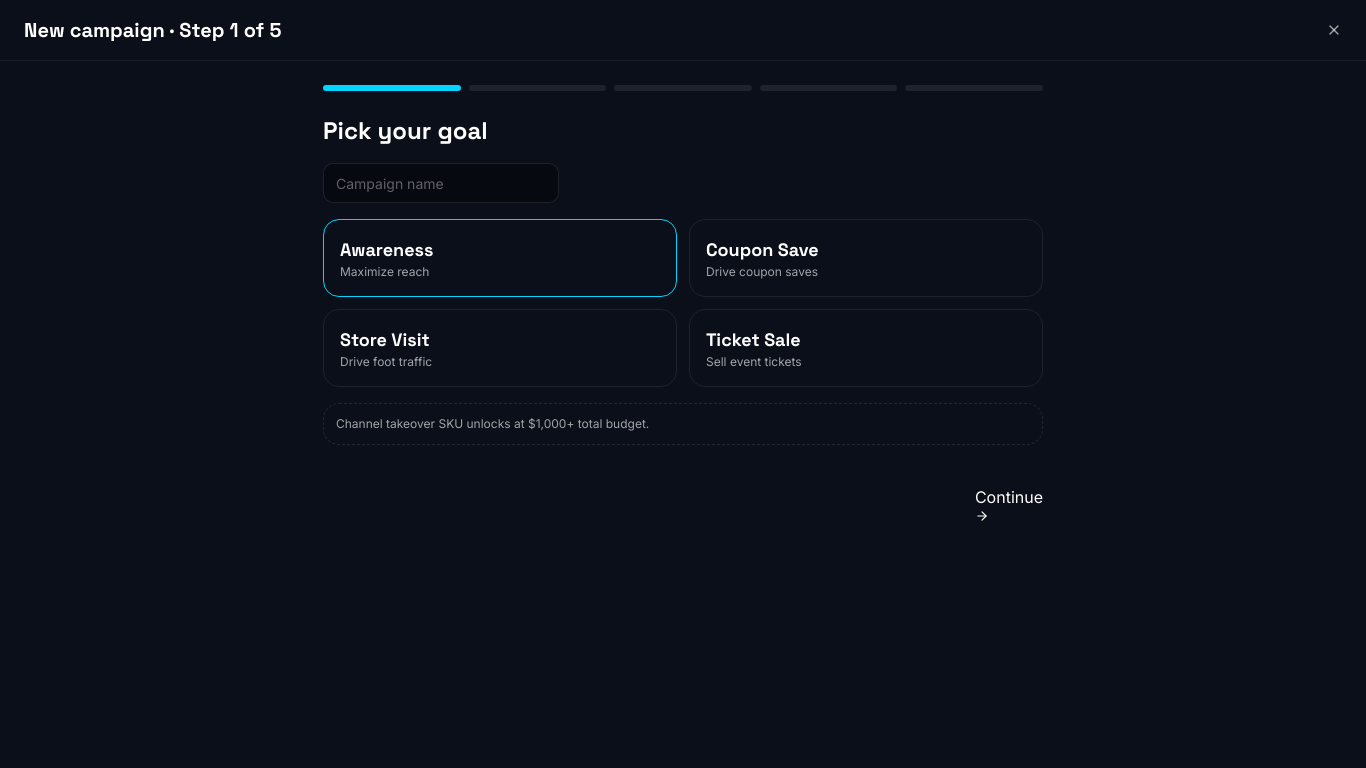
Scenario: 1) Campaign wizard renders 5 steps
This screenshot has width=1366, height=768.
expect the element with test id "wizard-step-1" is shown: met, box left=323, top=115, right=1043, bottom=445
Click the button with test id "wizard-next". click: (1009,504)
box: left=975, top=485, right=1043, bottom=523
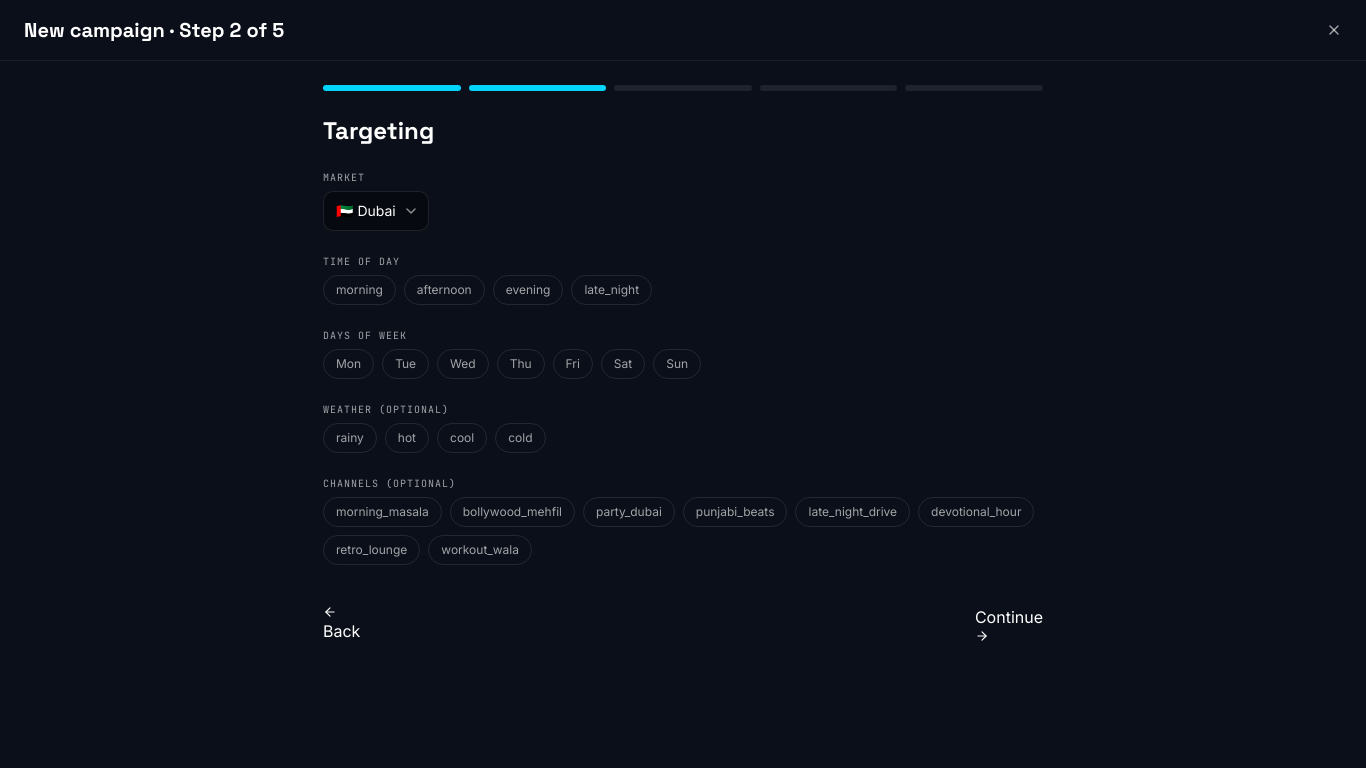
Click the button with test id "wizard-next". click: (1009,624)
box: left=975, top=605, right=1043, bottom=643
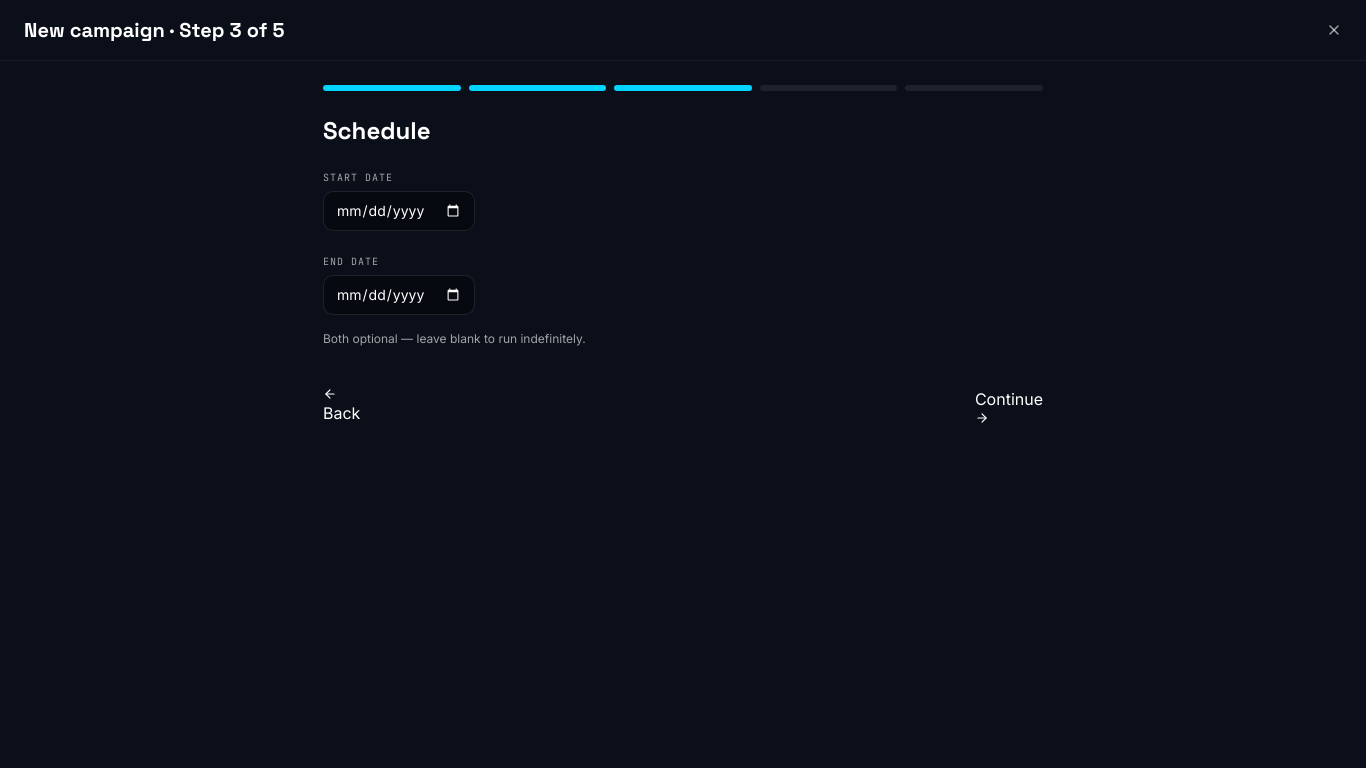
Click the button with test id "wizard-next". click: (1009,406)
box: left=975, top=387, right=1043, bottom=425
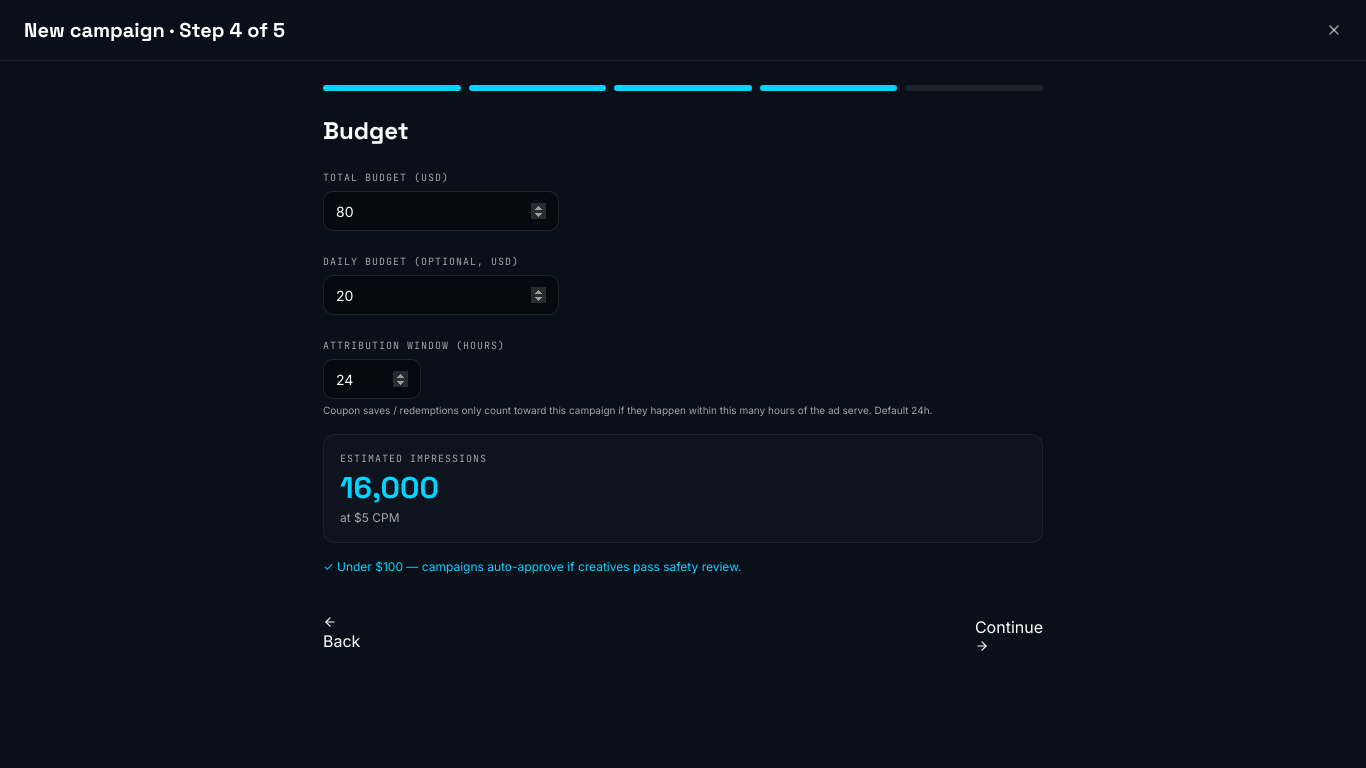
Click the button with test id "wizard-next". click: (1009,634)
box: left=975, top=615, right=1043, bottom=653
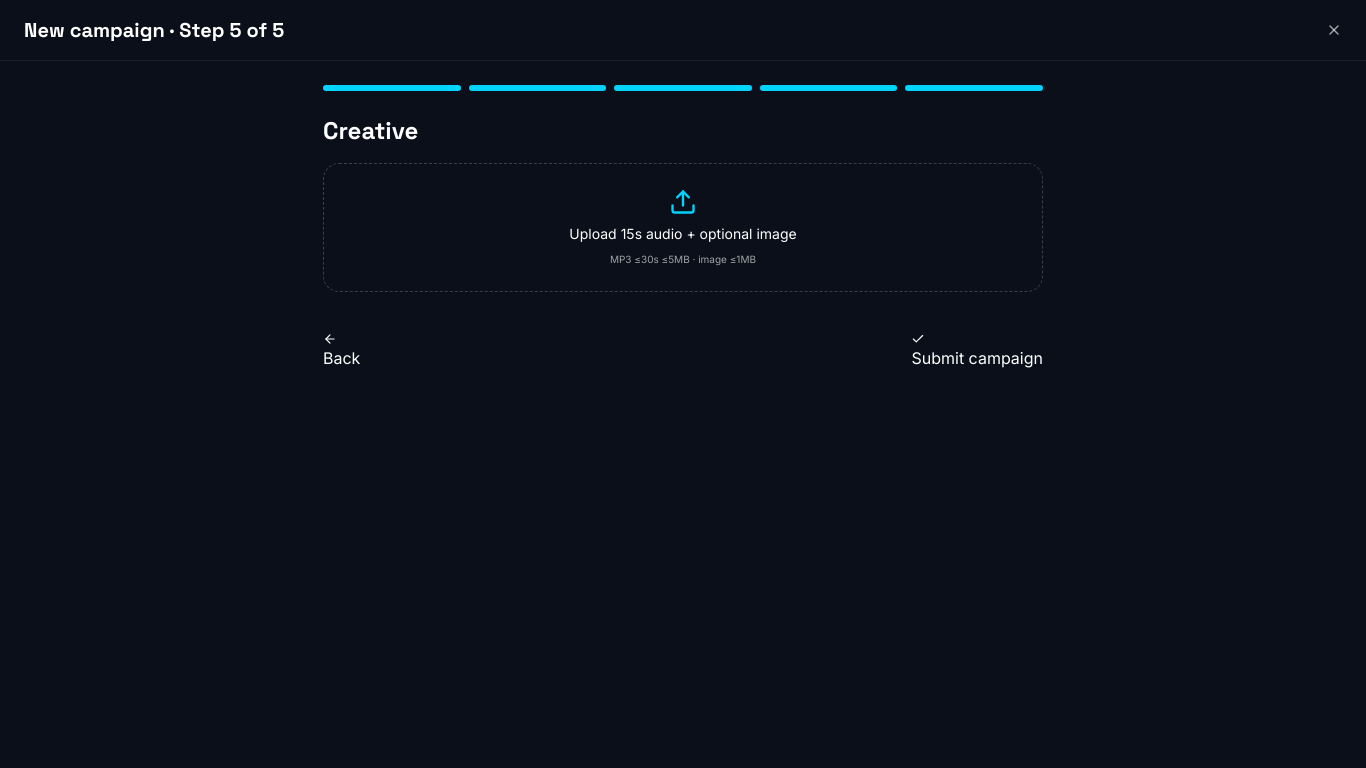
expect the element with test id "wizard-step-5" is shown: met, box left=323, top=115, right=1043, bottom=292
